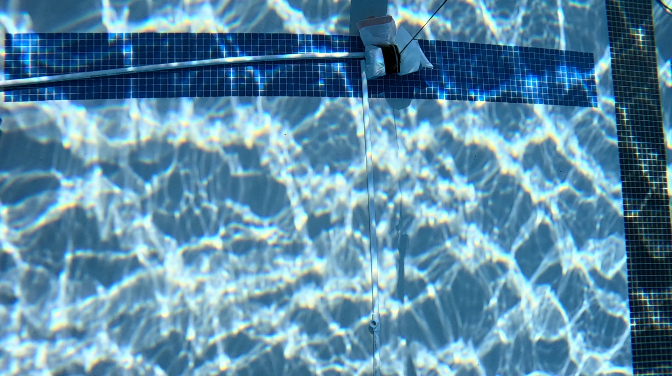sandbag: (358, 16, 428, 74)
